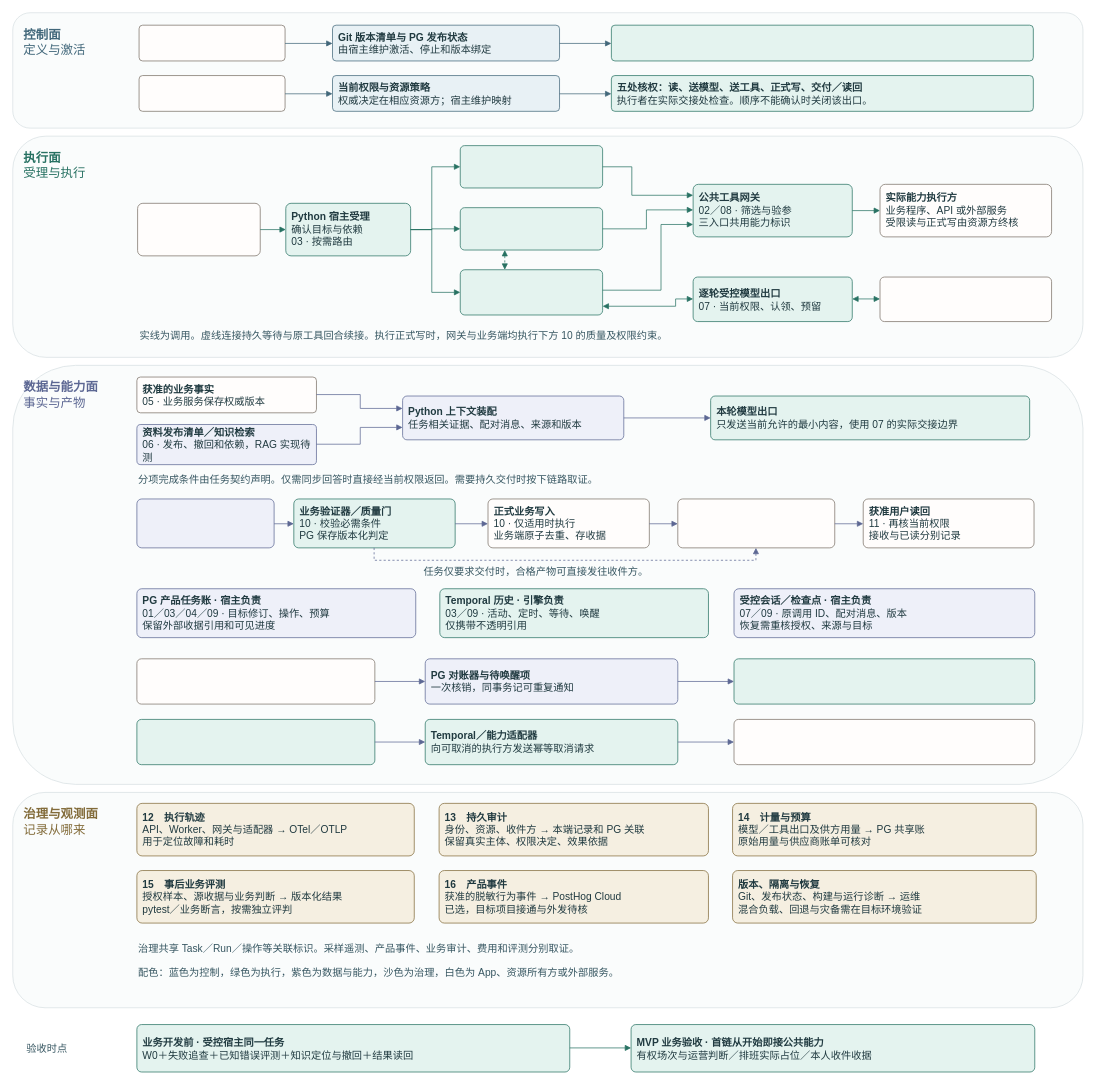
Some shapes in this 1096 by 1085 pixel diagram are drawn without their labels. The box of each missing label's shape, as (x1, y1, x2, y2) in pixels:
App 身份方／资源方 主体、对象、动作、撤权: (138, 75, 285, 111)
App／API／业务事件 登录或受托事件 01 · 带主体和对象: (137, 203, 260, 256)
Pydantic AI 依据工具结果继续或终止: (460, 269, 603, 315)
Temporal 工作流 确定性编排、等待与恢复: (460, 207, 603, 250)
Temporal 等待 → 原 Agent 回合 重新核权、校验目标与资料后认领；相同通知只续一次: (733, 658, 1035, 704)
候选产物 受控引用、对象 与依赖版本: (136, 498, 274, 548)
受理路由、工具目录与业务质量门 只取适用的已发布版本，再按当前主体和任务筛选: (611, 24, 1033, 61)
实际执行方 → 取消确认／在途事实 不可取消、已生效或未知时，迟到回执只对账: (733, 719, 1035, 765)
指定收件端 11 · 交付号去重 收件方保存接受收据: (677, 498, 835, 548)
权威回执／原号查单 只能由授权对账主体取证: (136, 658, 375, 704)
目标修订／取消意图 宿主封住新的相关派发，并记原号: (136, 719, 375, 765)
直接程序 已知、短时、有界的动作: (460, 145, 603, 188)
能力与业务维护者 规则、条件、能力契约: (138, 24, 285, 61)
获准模型提供方 返回建议或工具请求: (879, 276, 1052, 322)
